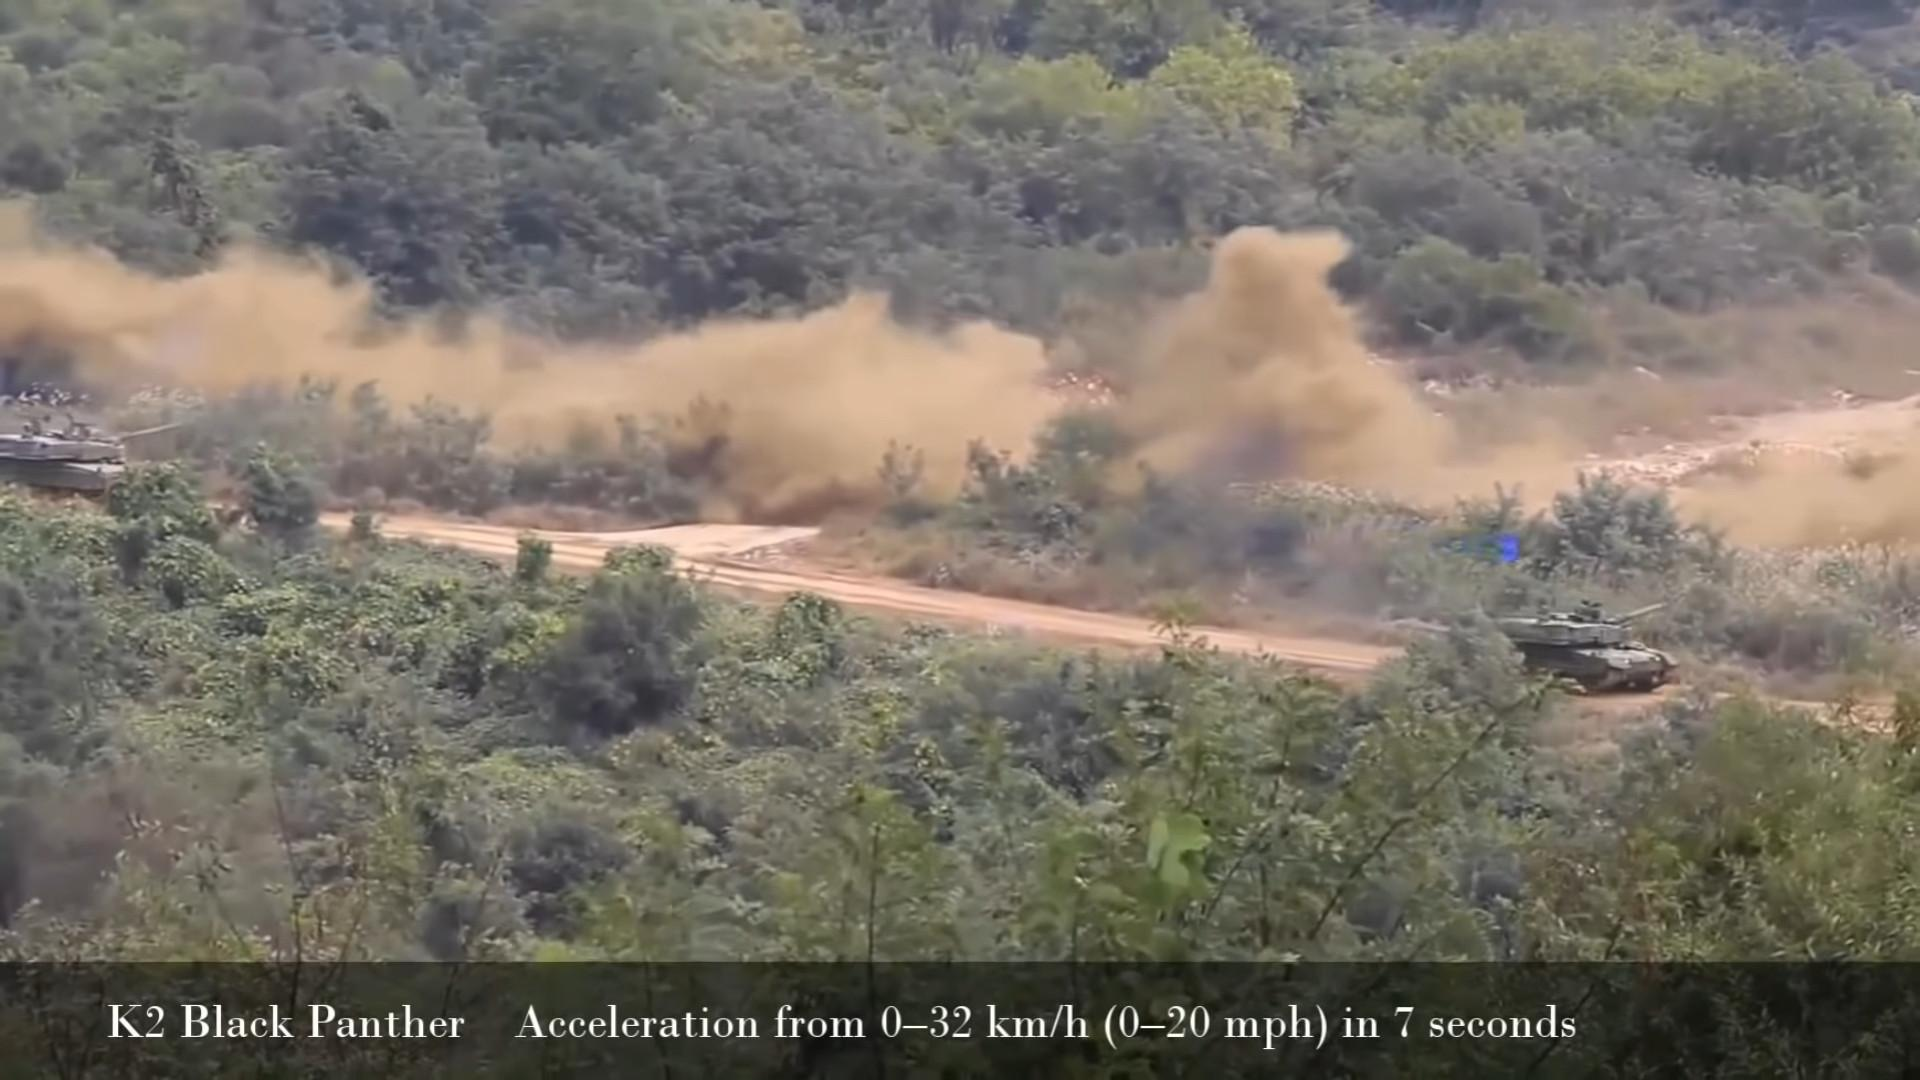tank: (1498, 604, 1677, 691), (1, 421, 185, 498)
